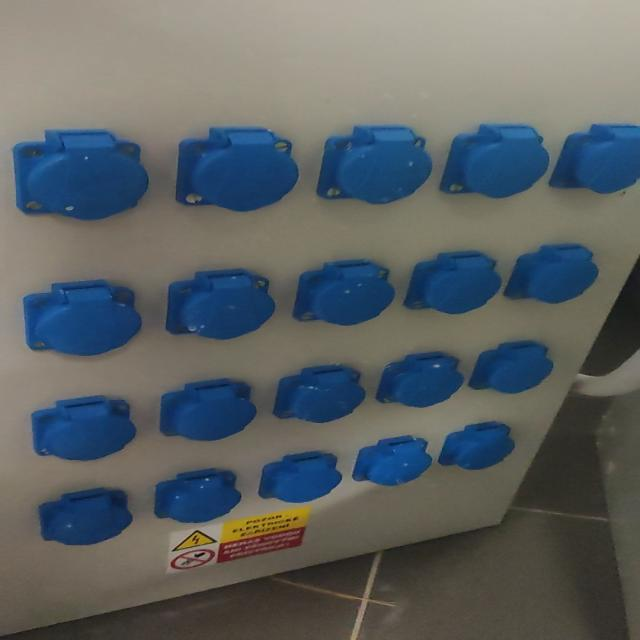house plug covered: (11, 131, 149, 223), (175, 127, 299, 211), (315, 125, 433, 205), (24, 280, 142, 356), (439, 124, 551, 200), (165, 271, 274, 342), (553, 122, 640, 198), (29, 399, 133, 462), (403, 251, 501, 314), (295, 262, 391, 326), (159, 379, 257, 441), (506, 246, 598, 305), (39, 488, 133, 545), (273, 367, 365, 423), (375, 351, 464, 408), (154, 468, 242, 524), (469, 340, 553, 394), (258, 451, 343, 503), (352, 435, 433, 486), (438, 421, 516, 470)
